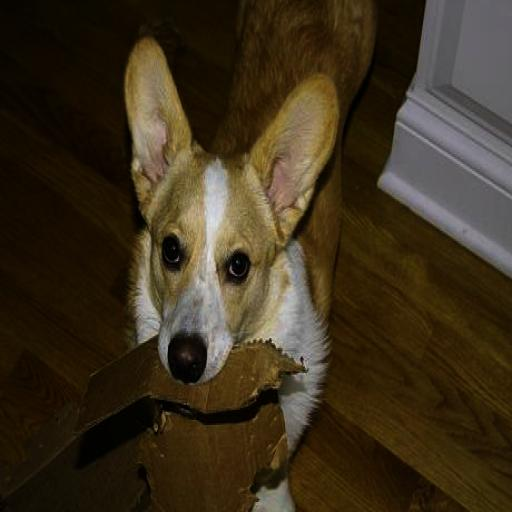dog_face: (121, 40, 331, 377)
